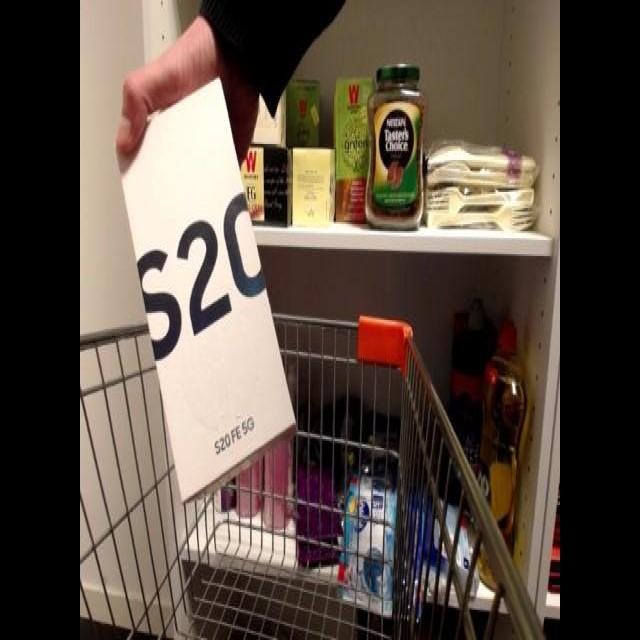Samsung S20: (113, 68, 306, 500)
